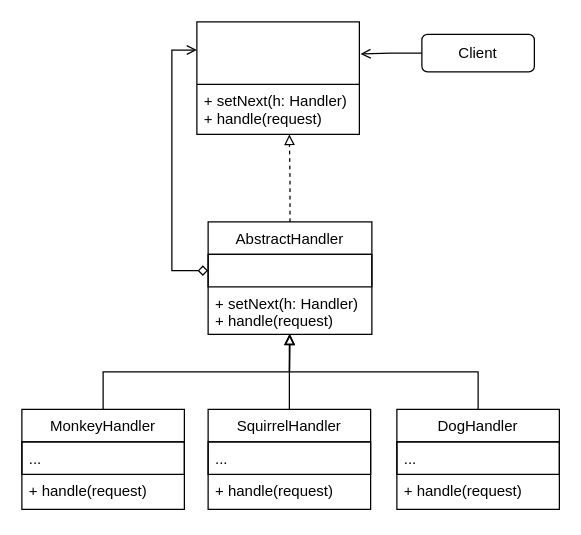
Image size: 581x535. Some labels were removed from this diagram. Here are the shapes that lost their labels. From the top down, the box of each, then its label:
(196, 21, 359, 134): "interface" Handler
(207, 253, 372, 287): - nextHandler: Handler
